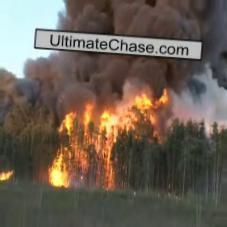fire: (46, 76, 163, 193), (1, 158, 18, 186)
smoke: (163, 72, 227, 137)
